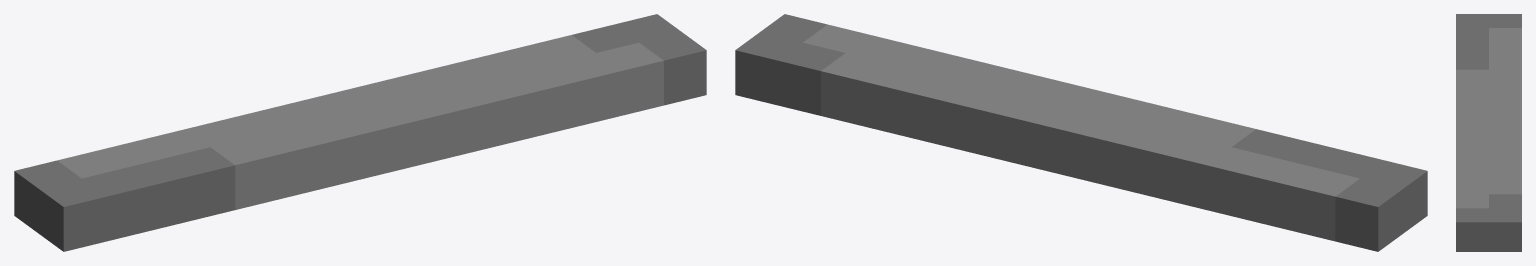
Rendered from obj_park_block.obj.
3 renders of one model, left to right at view 1: azimuth 30°, elevation 25°; view 2: azimuth 150°, elevation 25°; view 3: azimuth 270°, elevation 25°, orthographic. The views are drawn at different scales.
Size of the model in its own units: 1.5 by 0.1 by 0.2.
Materials: 1 (1 with a texture image).
